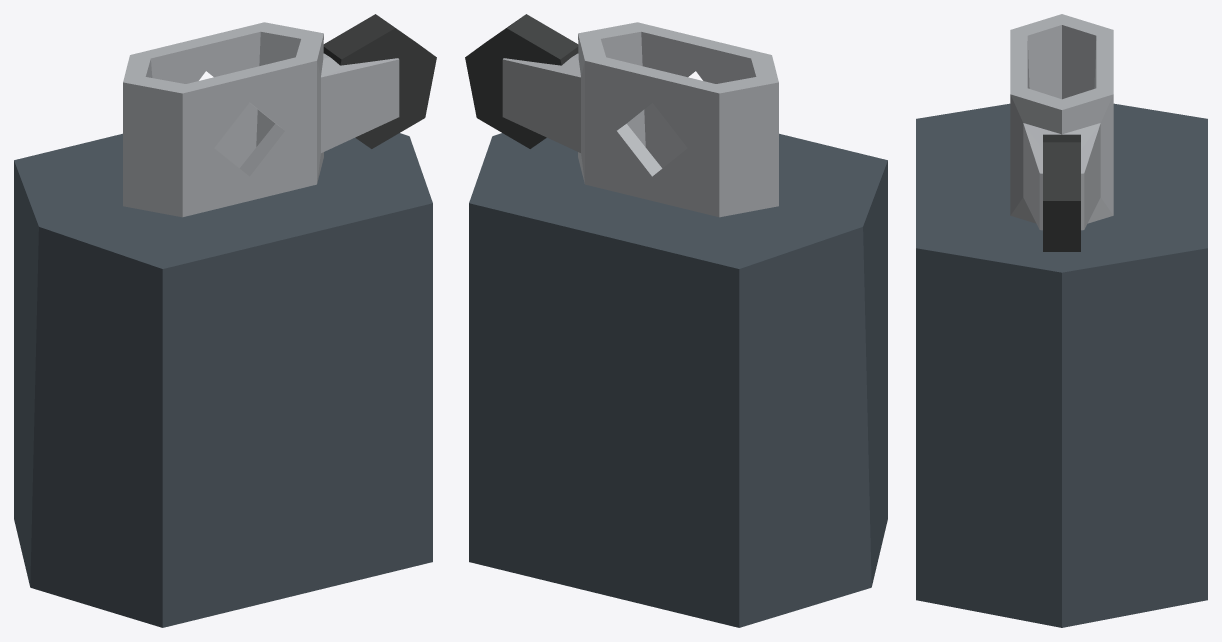
The model's file is Lighter.fbx.
3 renders of one model, left to right at view 1: azimuth 30°, elevation 25°; view 2: azimuth 150°, elevation 25°; view 3: azimuth 270°, elevation 25°, orthographic.
Parts seen in each view (by area): view 1: Lighter; view 2: Lighter; view 3: Lighter.
Part boxes in pixels (left/top/right/bottom): Lighter: left=14, top=14, right=436, bottom=627; Lighter: left=465, top=14, right=887, bottom=627; Lighter: left=916, top=14, right=1207, bottom=627.
Bounding box in the file's own units: 6.05 × 7.03 × 3.93.
